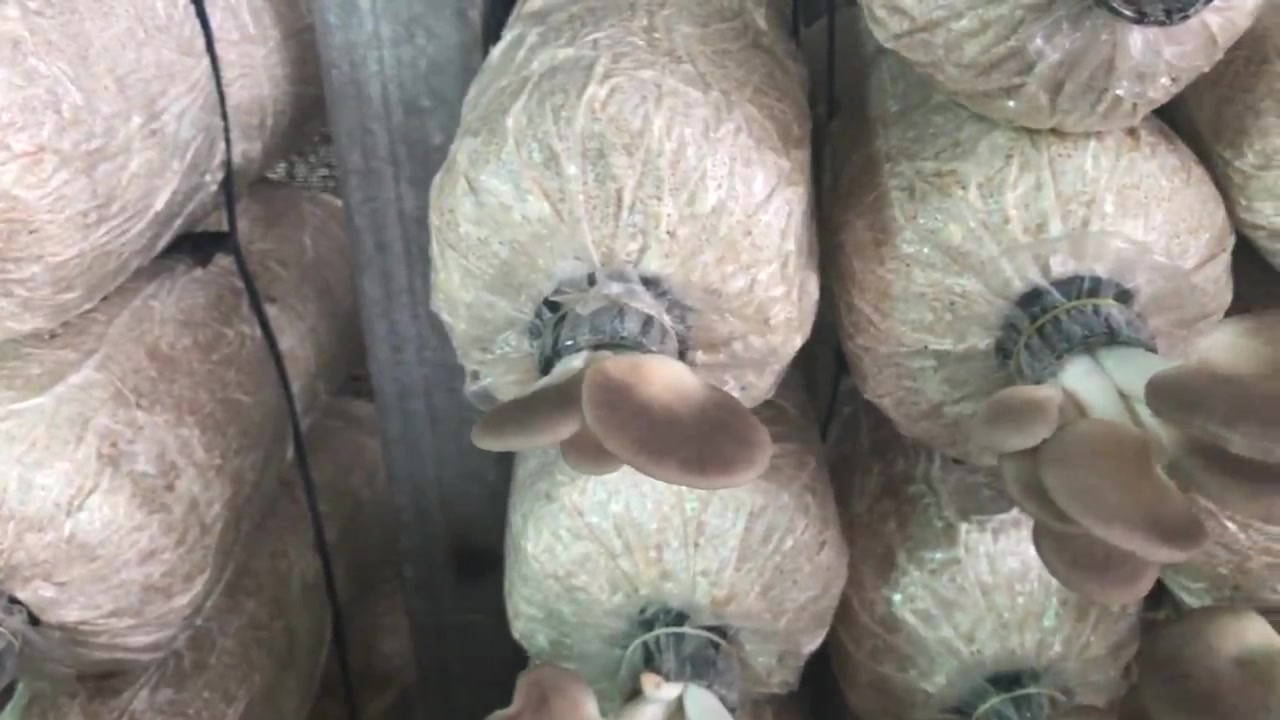nam: (981, 268, 1280, 596), (474, 275, 771, 489)
